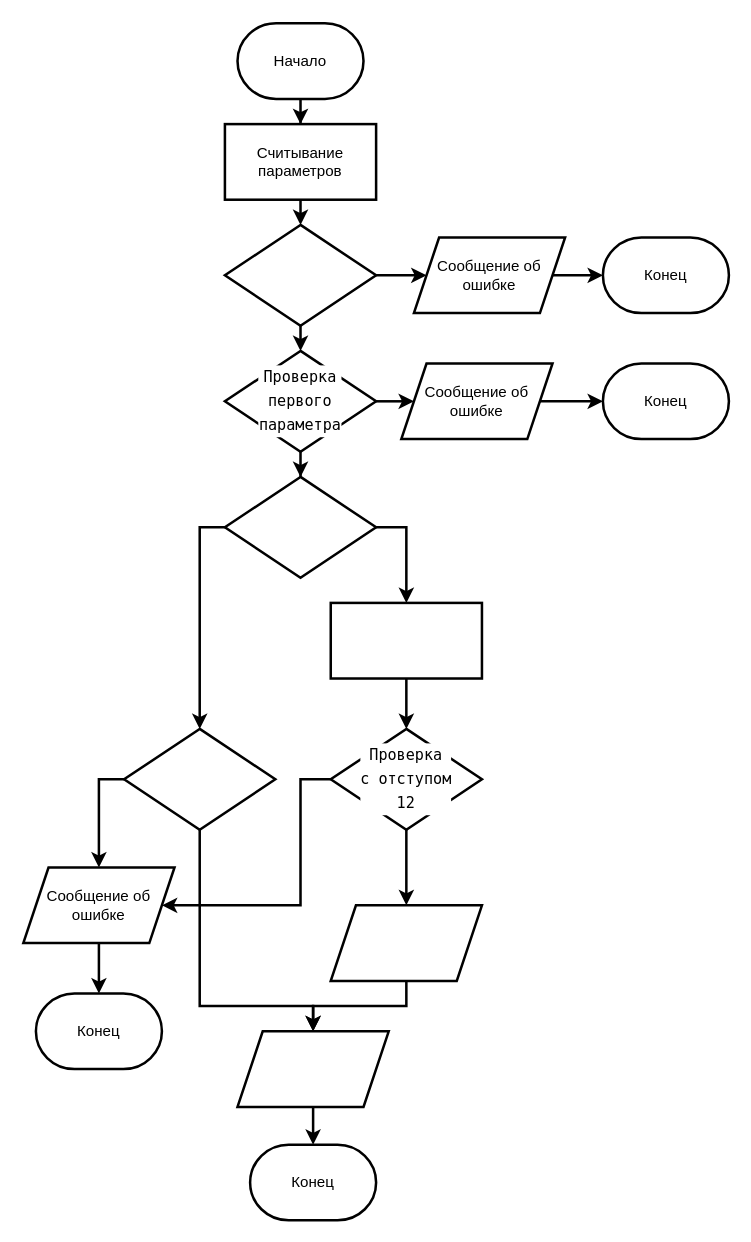
Image size: 751x1242. Some labels were removed from this diagram. The box of each missing label's shape, as (x1, y1, x2, y2) in pixels:
falg[ 1 ], 1: (329, 601, 483, 679)
Вывод параметров: (236, 1029, 389, 1108)
Вывод справки: (329, 903, 483, 982)
Кол-во пар-ов равно 0: (223, 223, 377, 326)
Проверка второго параметра: (223, 475, 377, 578)
Проверка с отступом 10: (122, 727, 276, 830)
